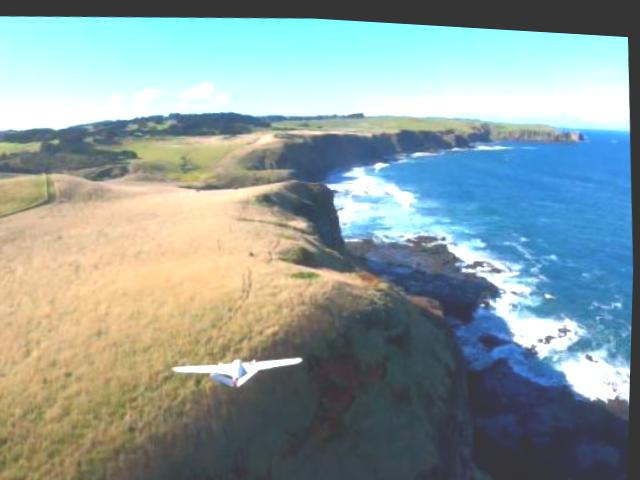uav: (172, 342, 306, 395)
